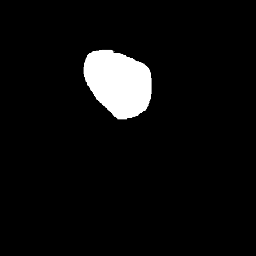mass: (86, 49, 153, 116)
